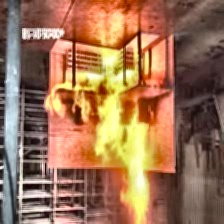fire: (43, 46, 165, 222)
